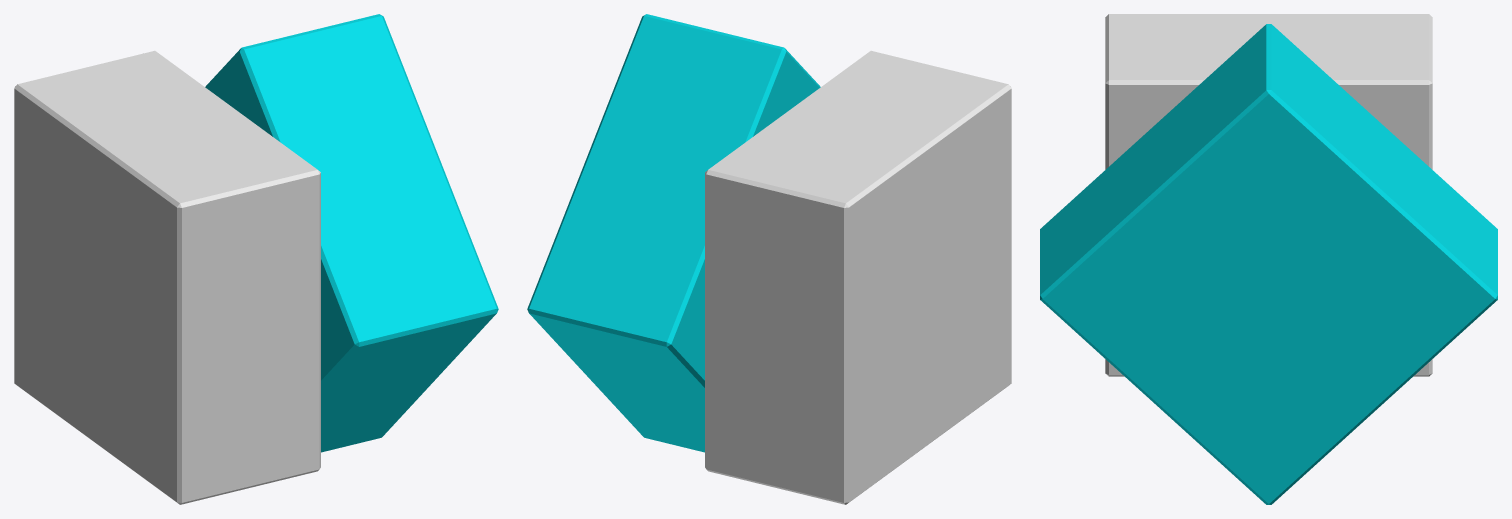
Rendered from _3dModel.fbx.
3 renders of one model, left to right at view 1: azimuth 30°, elevation 25°; view 2: azimuth 150°, elevation 25°; view 3: azimuth 270°, elevation 25°, orthographic.
Visible parts, largest first — view 1: Cube; view 2: Cube; view 3: Cube.
Boxes of the visible parts, x1,y1,x2,y2 form: Cube: (14, 14, 498, 504); Cube: (527, 14, 1011, 504); Cube: (1040, 14, 1497, 504).
Size of the model in its own units: 2 by 2.8 by 2.8.
